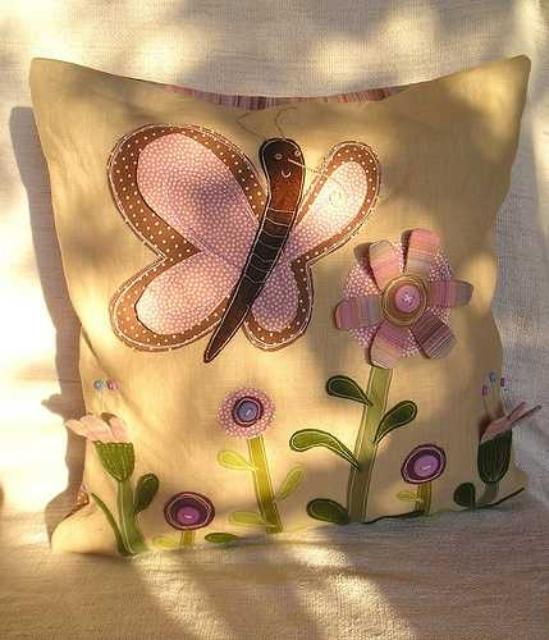pillow: (26, 52, 532, 554)
